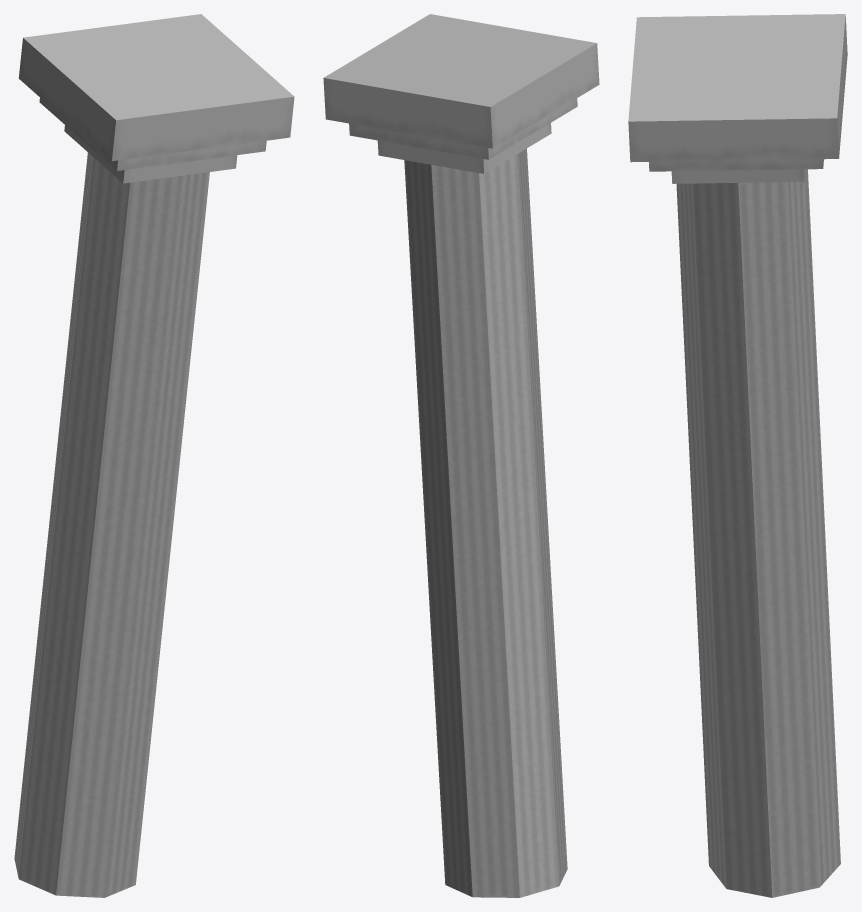
Rendered from heaven_tree_1.fbx.
3 renders of one model, left to right at view 1: azimuth 30°, elevation 25°; view 2: azimuth 150°, elevation 25°; view 3: azimuth 270°, elevation 25°, orthographic. The views are drawn at different scales.
Visible parts, largest first — view 1: heaven_tree_1; view 2: heaven_tree_1; view 3: heaven_tree_1.
Boxes of the visible parts, left/top/right/bottom form: heaven_tree_1: left=14, top=14, right=294, bottom=897; heaven_tree_1: left=323, top=14, right=599, bottom=897; heaven_tree_1: left=628, top=14, right=847, bottom=897.
Size of the model in its own units: 3.82 by 3.32 by 14.14.
